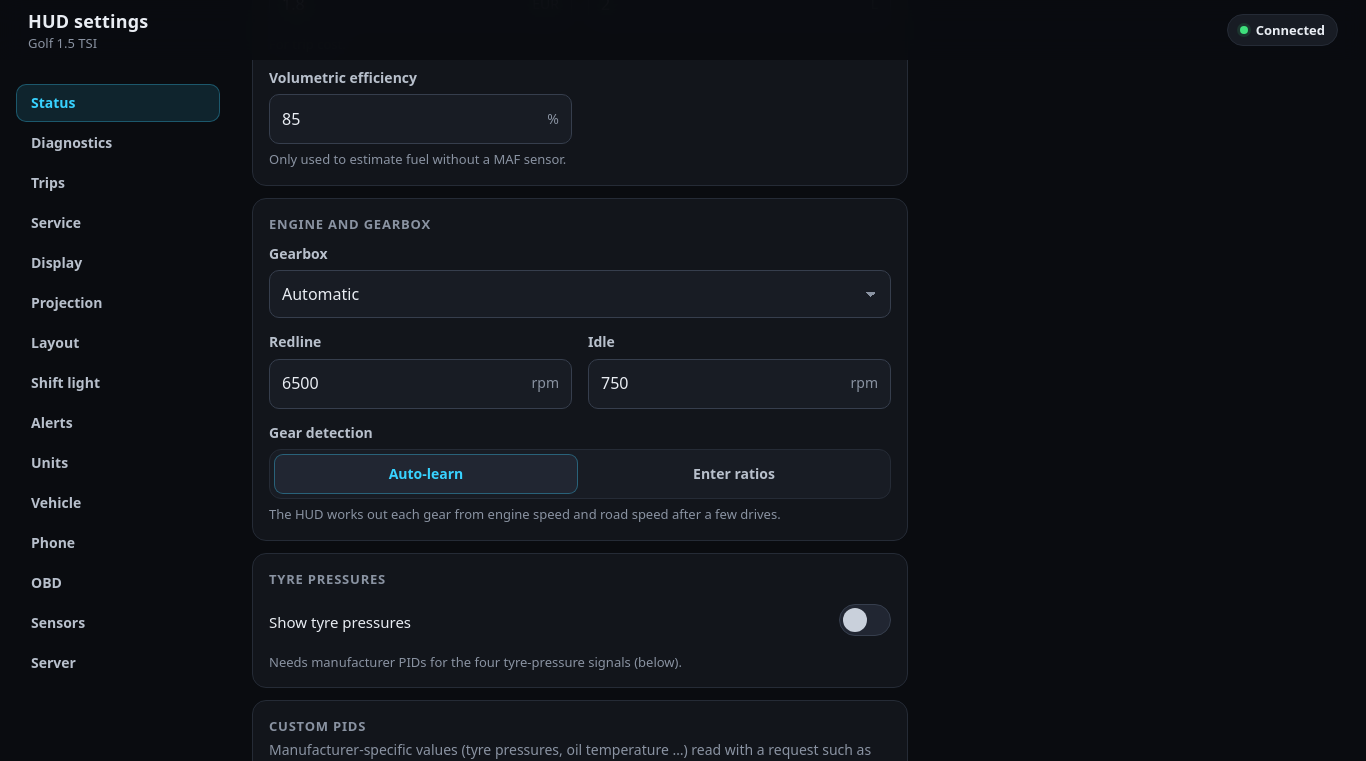
Test case: settings app › discards edits
Replace the text in the field labelled "Redline" with "7000x" at (399, 384), box [270,360,528,408]
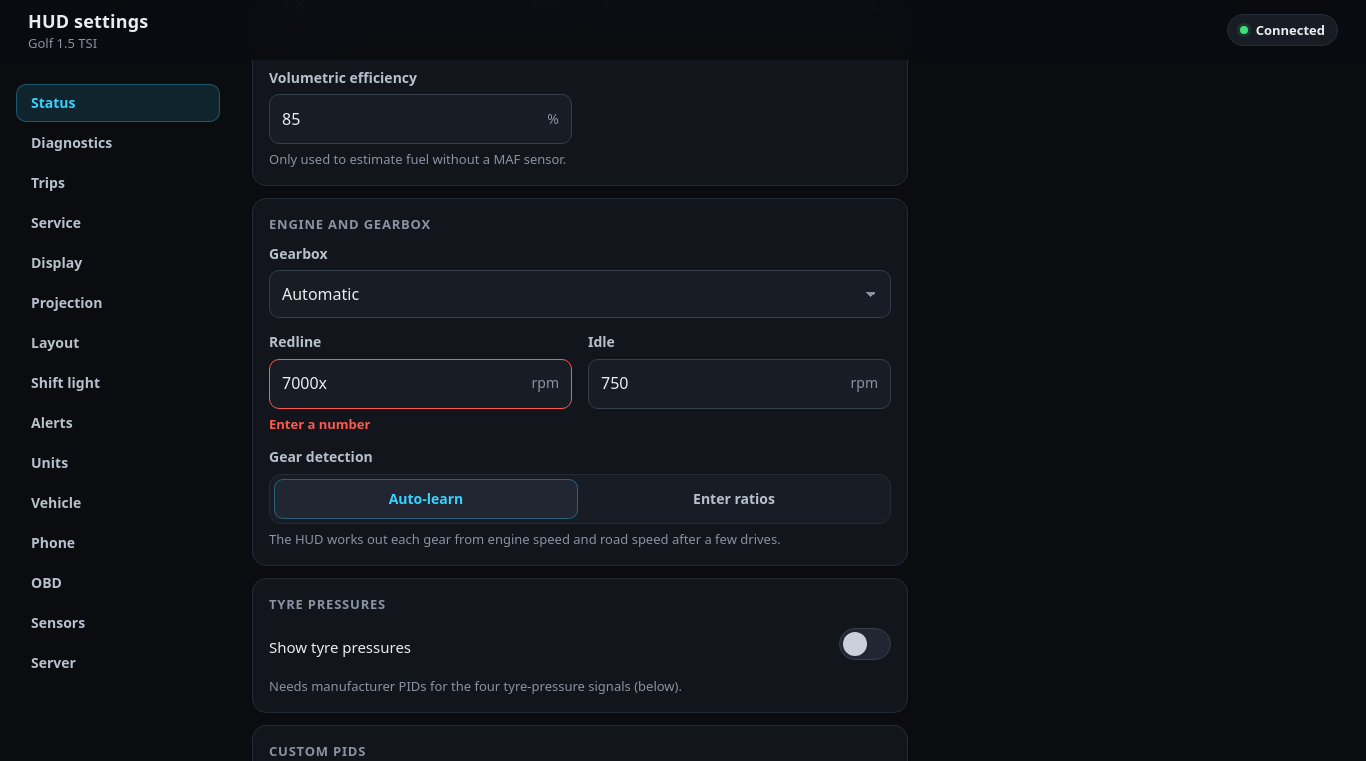
Replace the text in the field labelled "Redline" with "7200" at (399, 384), box [270,360,528,408]
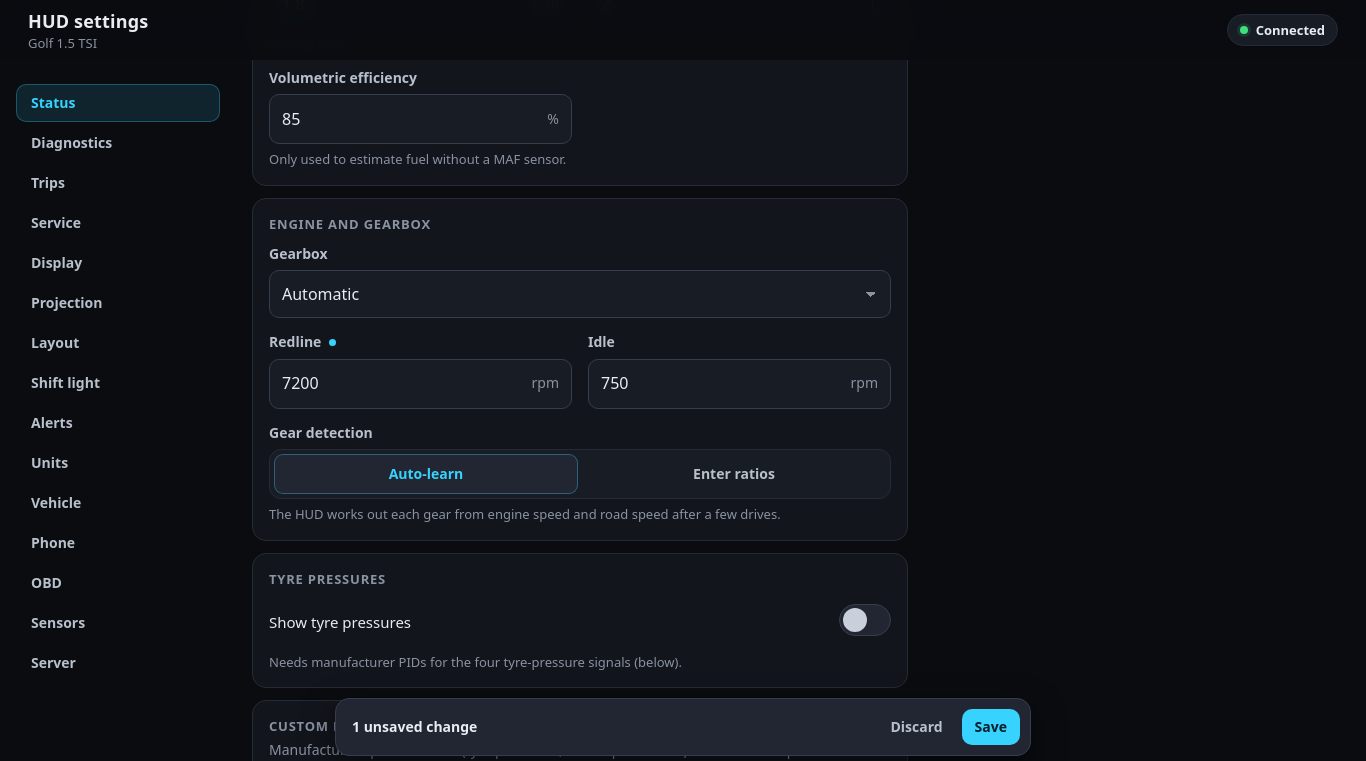
Click the button "Discard".
click(916, 727)  # box [877,709,956,745]
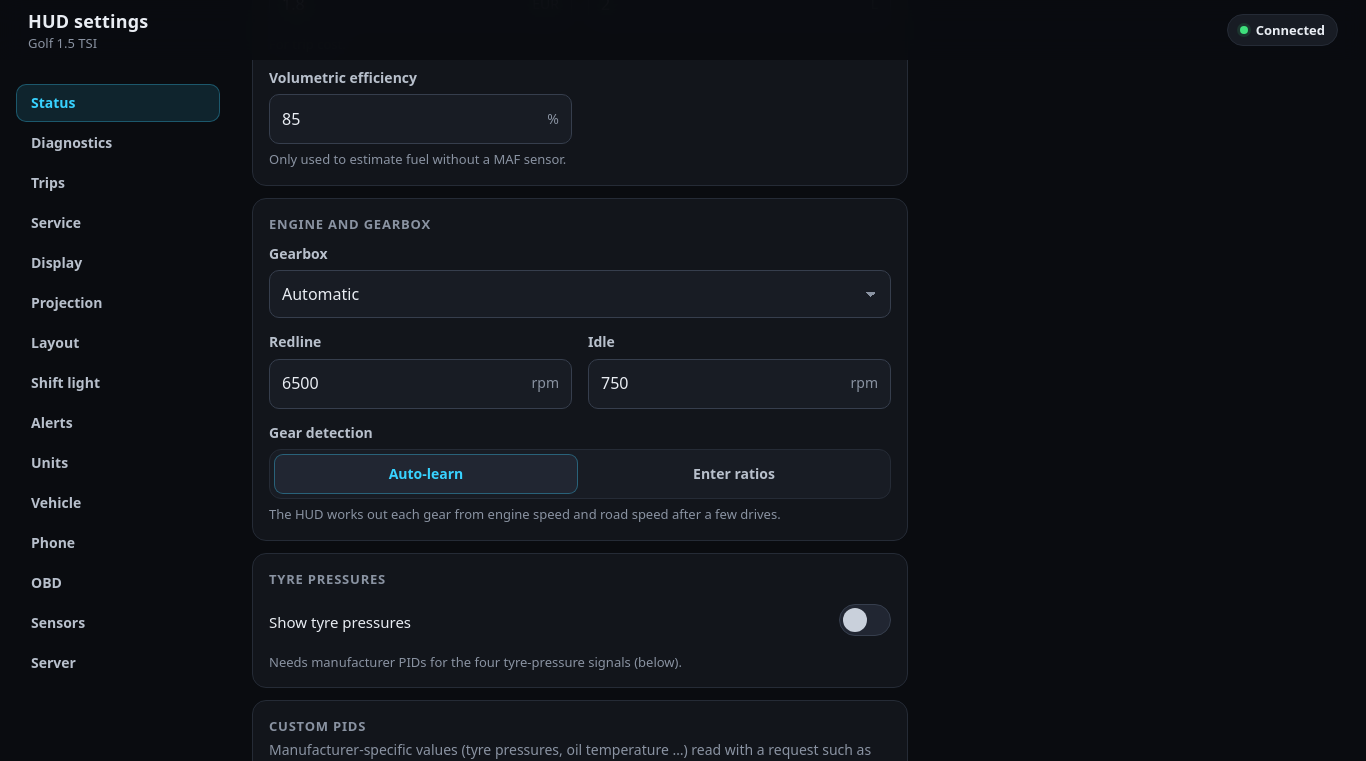
Result: the field labelled "Redline" holds "6500" at [270,360,528,408]
Result: the element with class "save-bar" is gone
